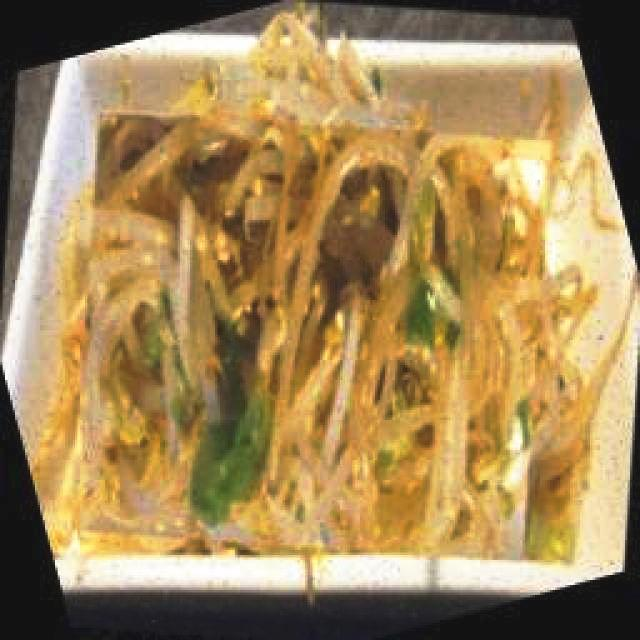mung_bean_sprouts: (100, 115, 576, 561)
